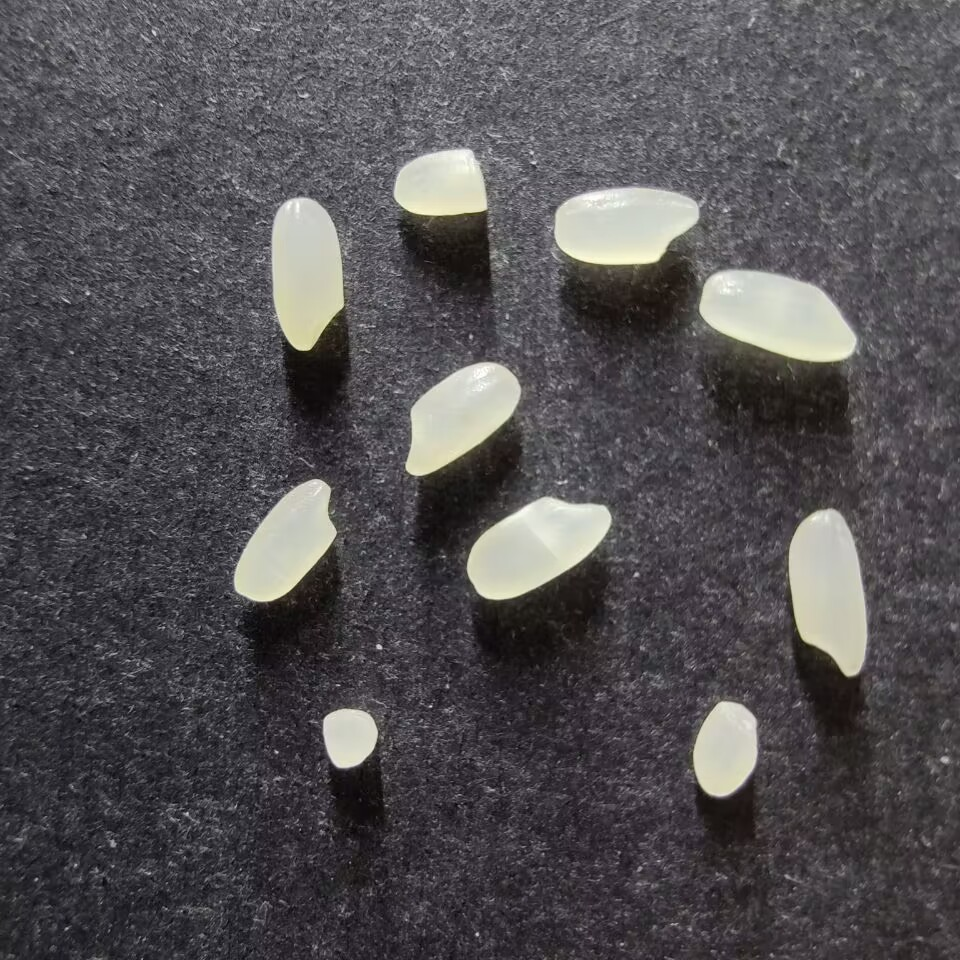broken: (693, 700, 760, 797), (392, 148, 487, 216), (322, 707, 378, 769)
rice: (465, 496, 610, 600), (698, 269, 856, 362), (787, 509, 868, 677), (404, 362, 521, 476), (232, 479, 336, 602), (270, 197, 345, 351), (552, 187, 699, 264)
